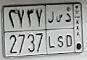2: (7, 8, 17, 54)
3: (26, 8, 36, 53)
7: (17, 9, 27, 53), (35, 7, 44, 53)
D: (64, 13, 73, 49)
L: (47, 11, 55, 50)
S: (55, 13, 66, 49)
